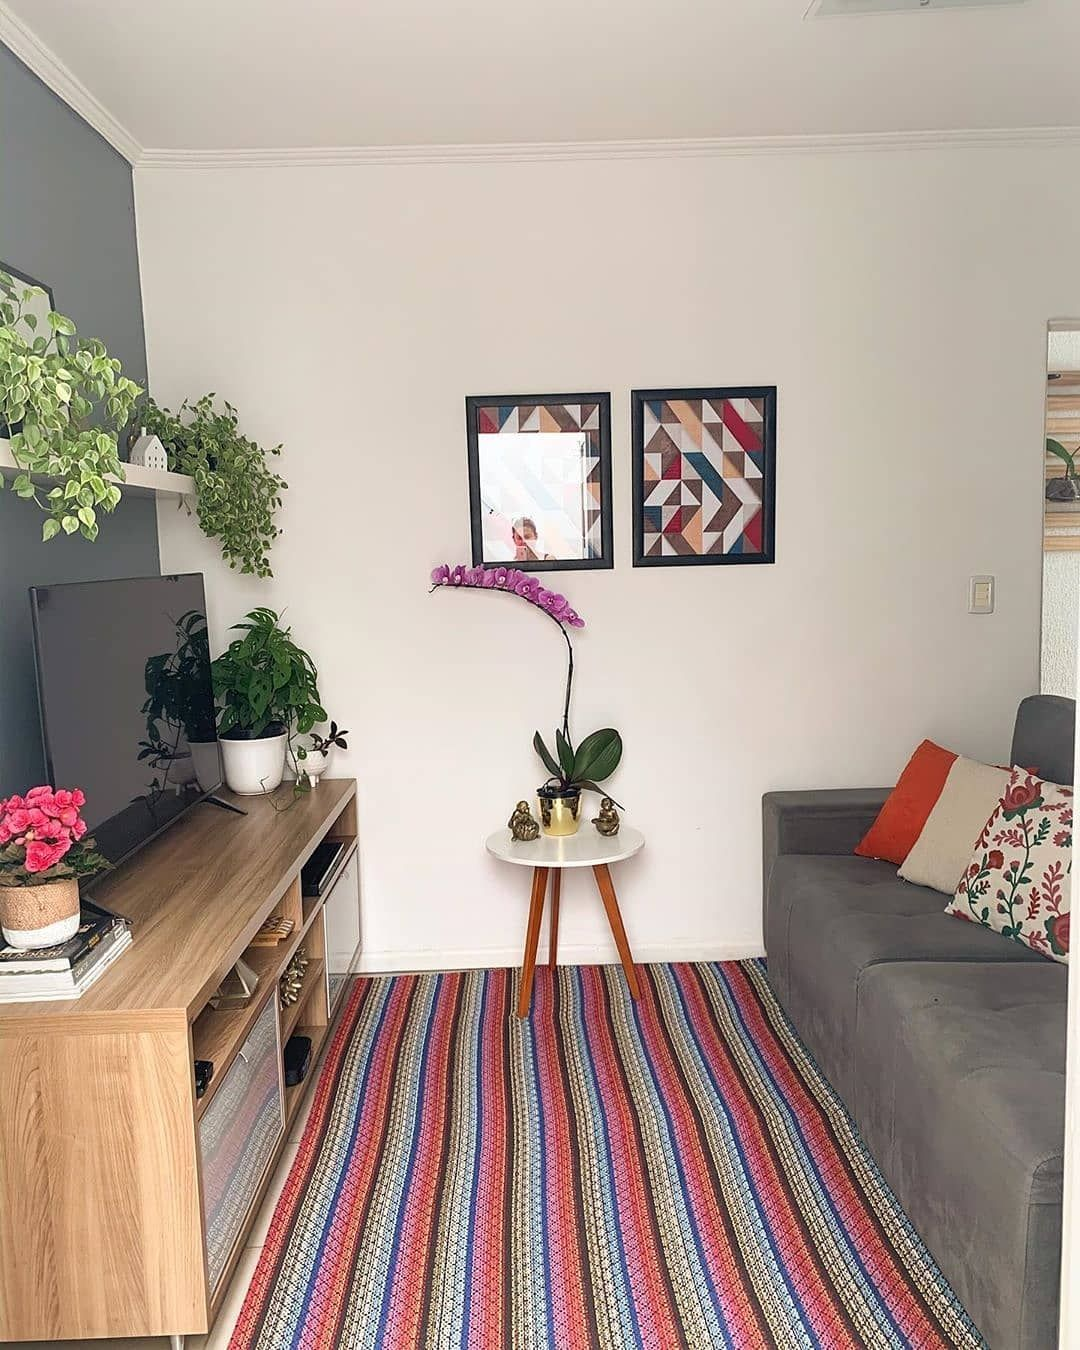sova: (730, 684, 1076, 1350)
tanaman: (442, 558, 633, 845), (210, 612, 327, 793)
